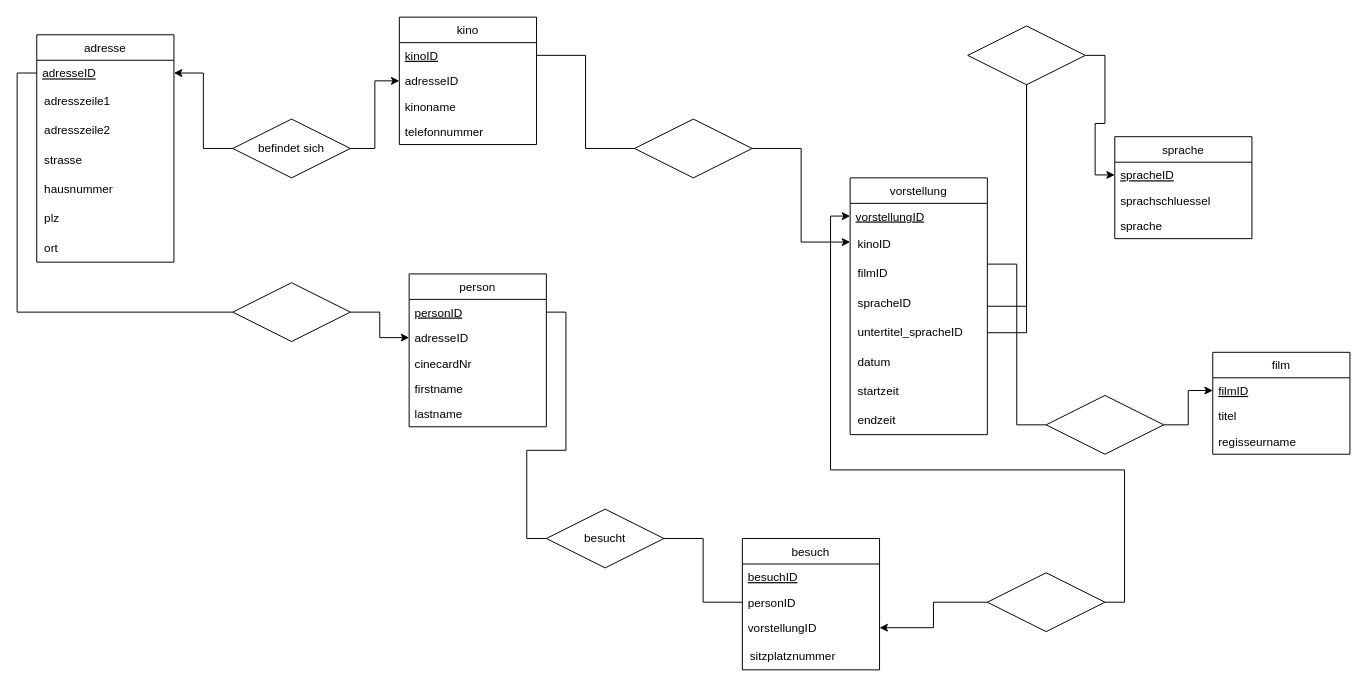
Some shapes in this 1367 by 687 pixel diagram are drawn without their labels. Each missing label, with the centre of its shape:
"hat" goes at (x=1045, y=602).
"organisiert" goes at (x=693, y=148).
"wohnt" goes at (x=291, y=312).
"zeigt" goes at (x=1104, y=424).
"übersetzt auf" goes at (x=1026, y=55).
